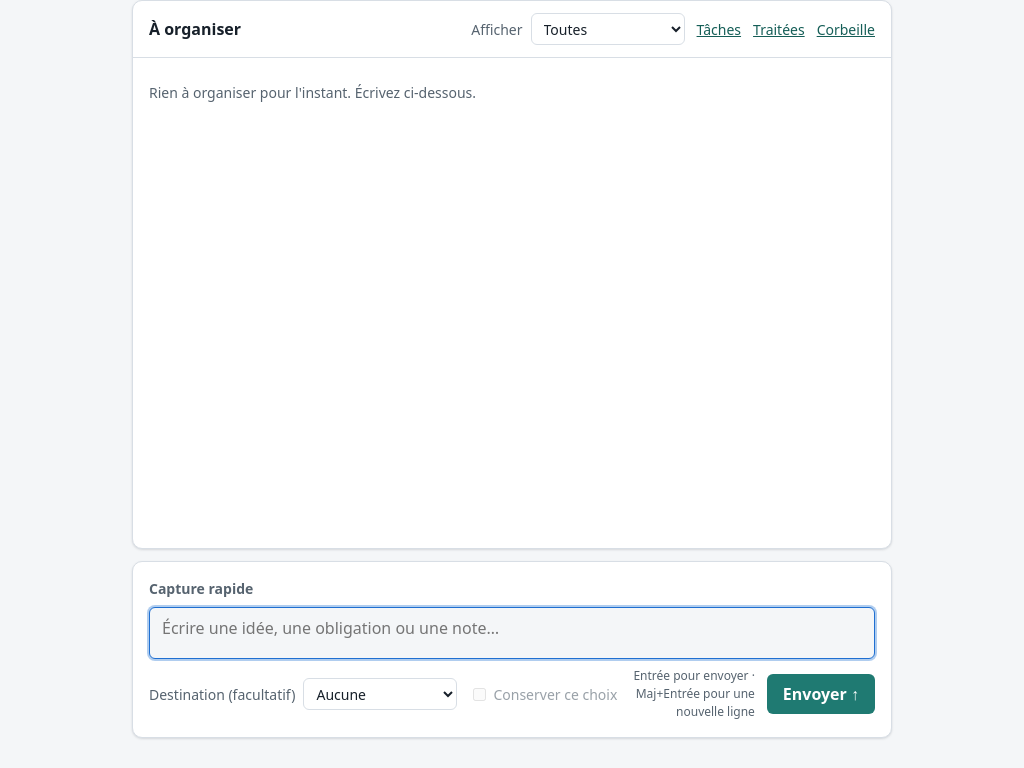
Test: Fermeture de la fenêtre protégée › texte non envoyé → échec de l'envoi : texte conservé, fenêtre ouverte
expect the text "Rien à organiser pour l'instant. Écrivez ci-dessous." is shown: met, box [149, 83, 476, 102]
Type "Ne pas perdre" into the text box labelled "Capture rapide" at [512, 633], box [149, 607, 875, 659]
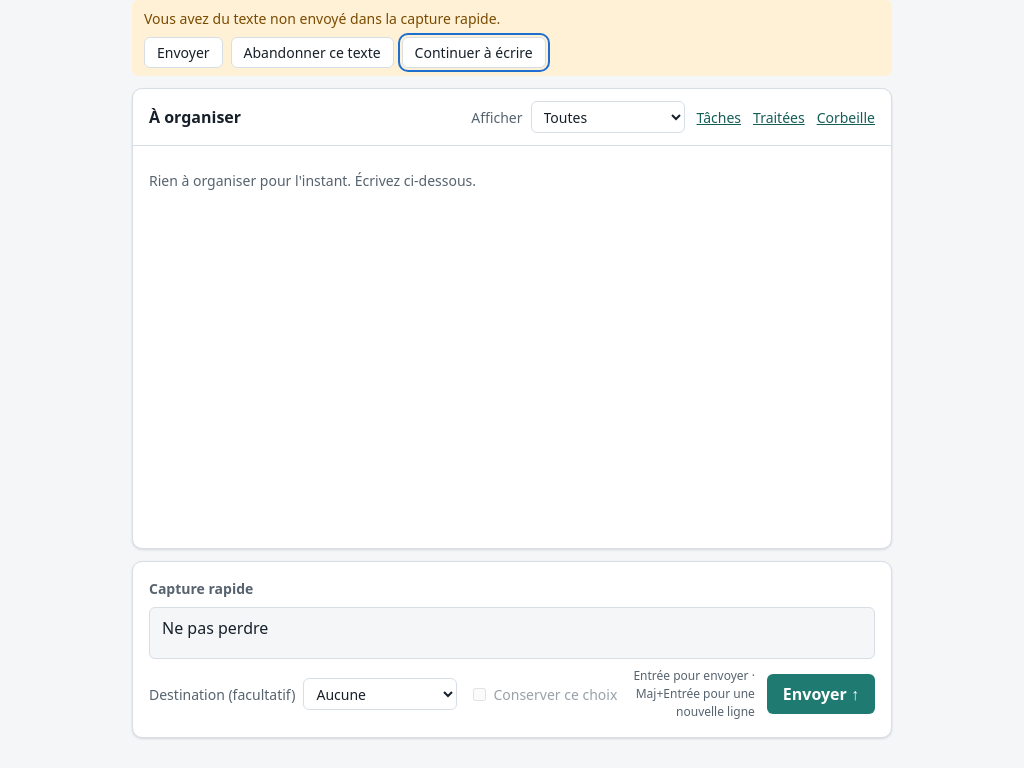
Click the button "Envoyer" at [183, 52], box [144, 37, 223, 68]
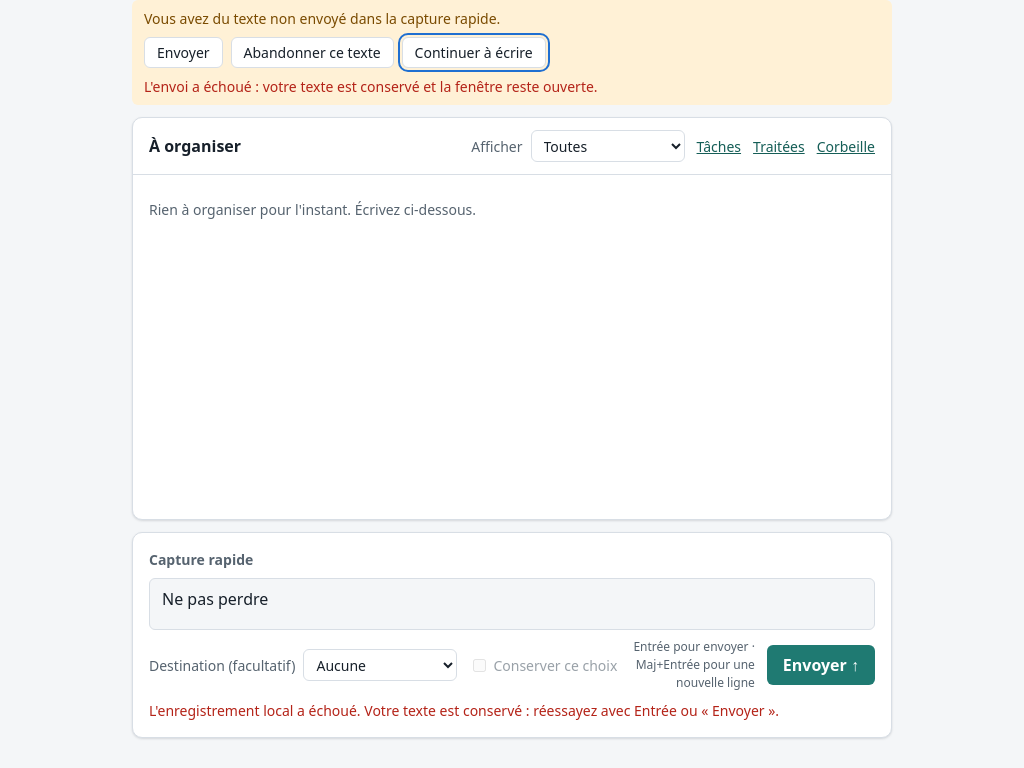
expect the text "L'envoi a échoué" is shown: met, box [144, 77, 598, 96]
